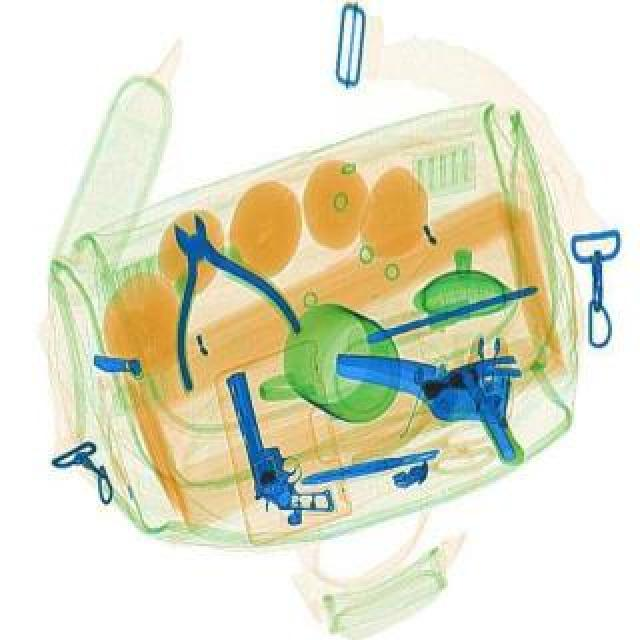gun: (216, 358, 336, 532)
wrench: (122, 194, 312, 390)
